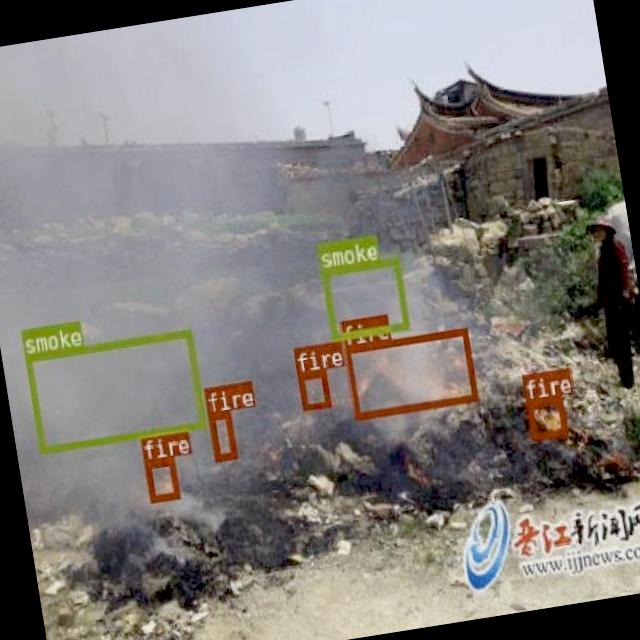fire: (343, 326, 478, 419), (524, 396, 566, 439), (143, 455, 180, 502), (207, 409, 236, 462), (296, 368, 330, 410)
smoke: (23, 327, 205, 454), (320, 256, 408, 341)
